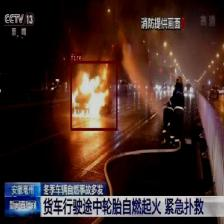fire: (70, 60, 117, 130)
